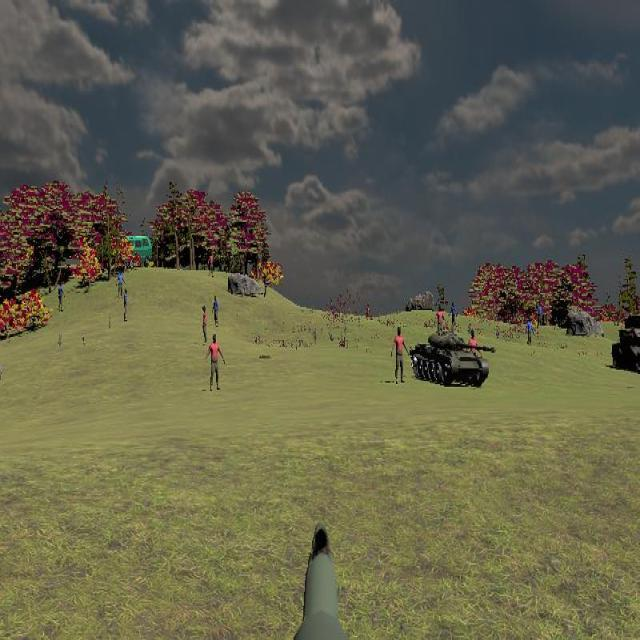Human: (206, 333, 226, 392), (391, 324, 410, 385)
Tank: (410, 331, 496, 389)
